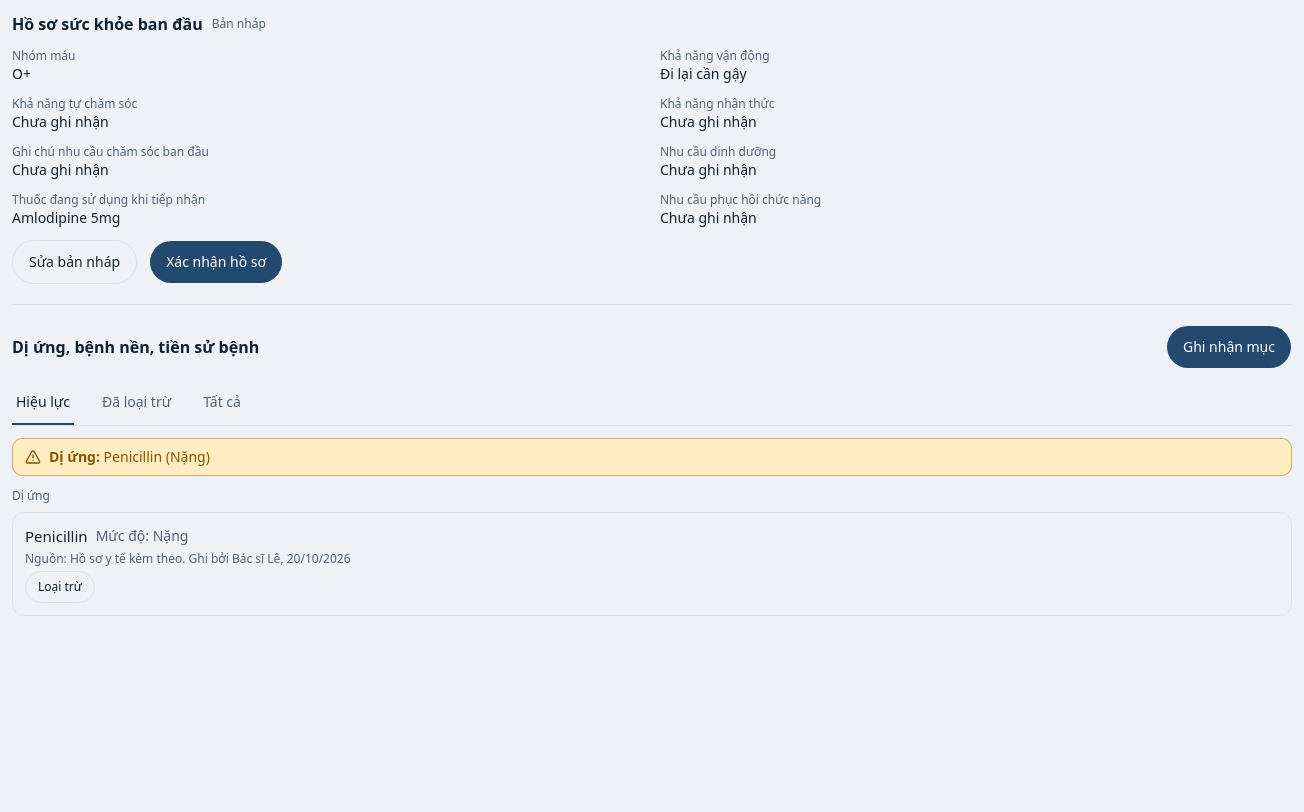
Scenario: HealthTab, mục sức khỏe › FR_019_locDaLoaiTru_hienLyDoVaNguoiLoaiTru
This screenshot has width=1304, height=812.
Expected: the text "Penicillin (Nặng)" is shown, 104,447 -> 210,466
Click the button "Đã loại trừ".
click(137, 403)  # box 98,381 -> 175,425
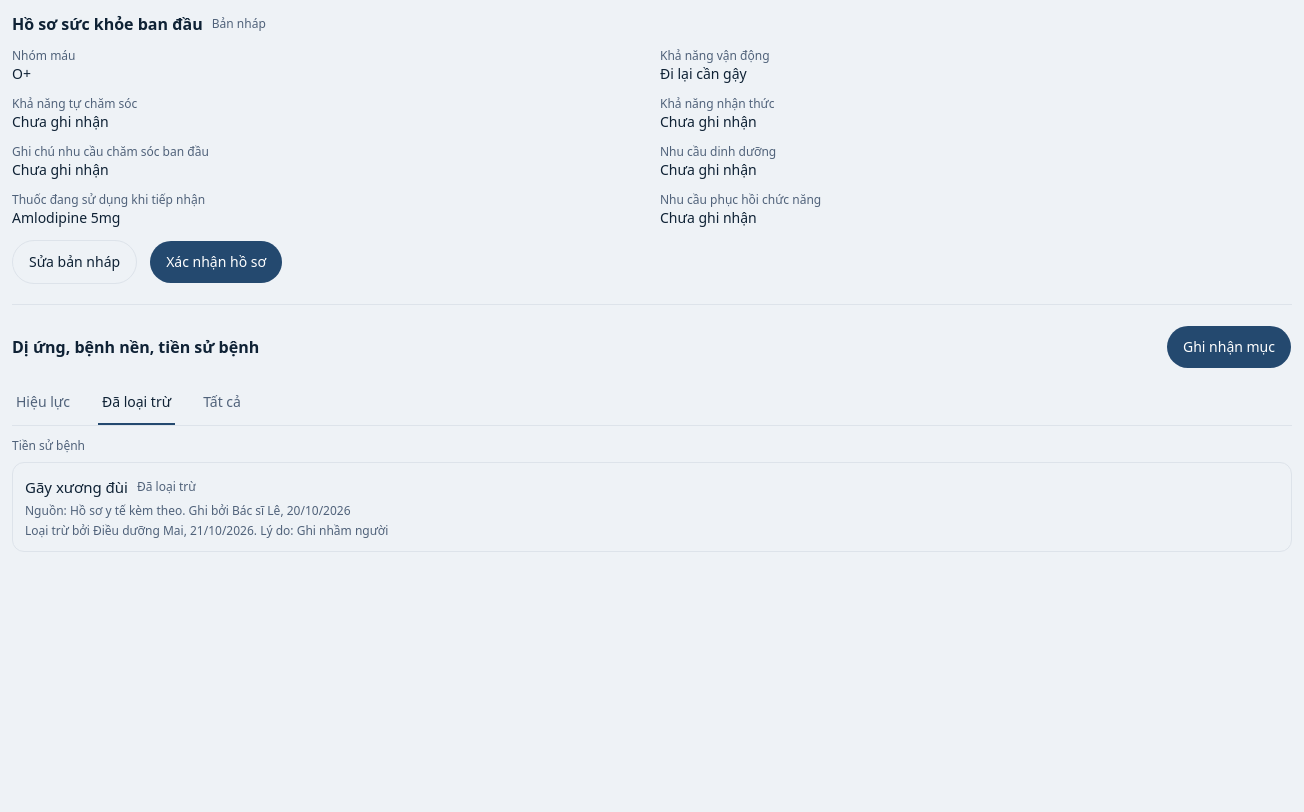
Now the text "Gãy xương đùi" is shown, box 25,476 -> 128,498
Now the text "Ghi nhầm người" is shown, box 297,522 -> 388,539
Now the text "Điều dưỡng Mai" is shown, box 93,522 -> 184,539
